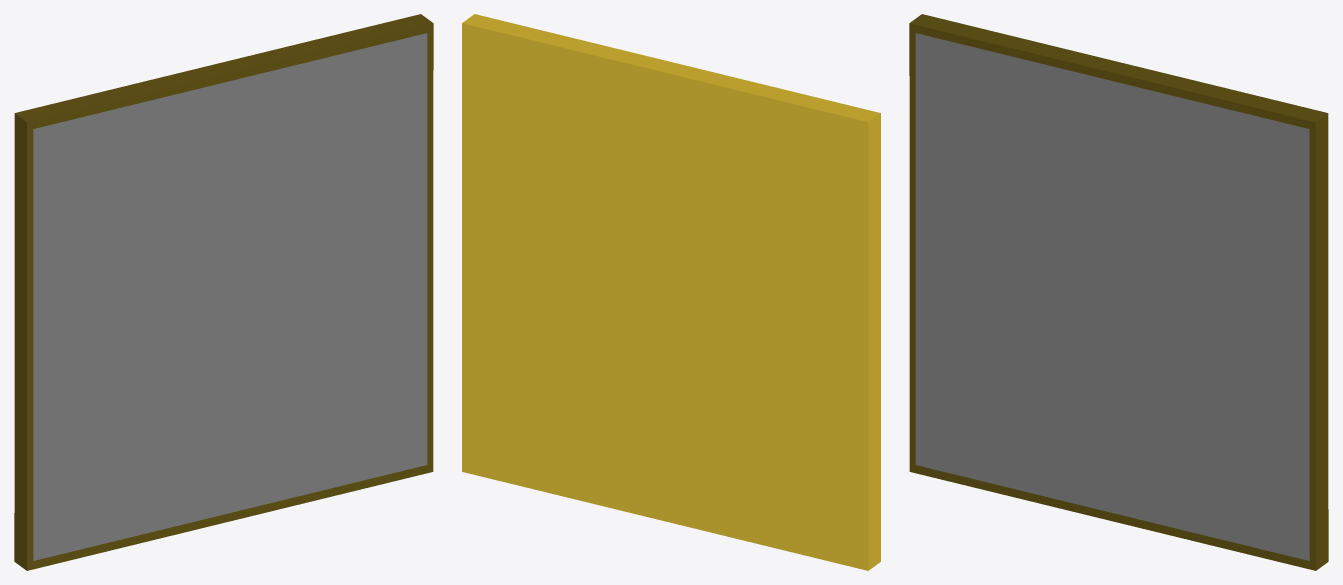
Rendered from Painting_ee2b21df.obj.
3 renders of one model, left to right at view 1: azimuth 30°, elevation 25°; view 2: azimuth 150°, elevation 25°; view 3: azimuth 330°, elevation 25°, orthographic.
Parts seen in each view (by area): view 1: FP322:Base22_b1532ed9; view 2: FP322:Base22_b1532ed9; view 3: FP322:Base22_b1532ed9.
Boxes of the visible parts, <box> form: FP322:Base22_b1532ed9: <box>14,14,433,570</box>; FP322:Base22_b1532ed9: <box>462,14,880,570</box>; FP322:Base22_b1532ed9: <box>909,14,1328,570</box>.
Size of the model in its own units: 0.8518 by 0.8987 by 0.0458.
